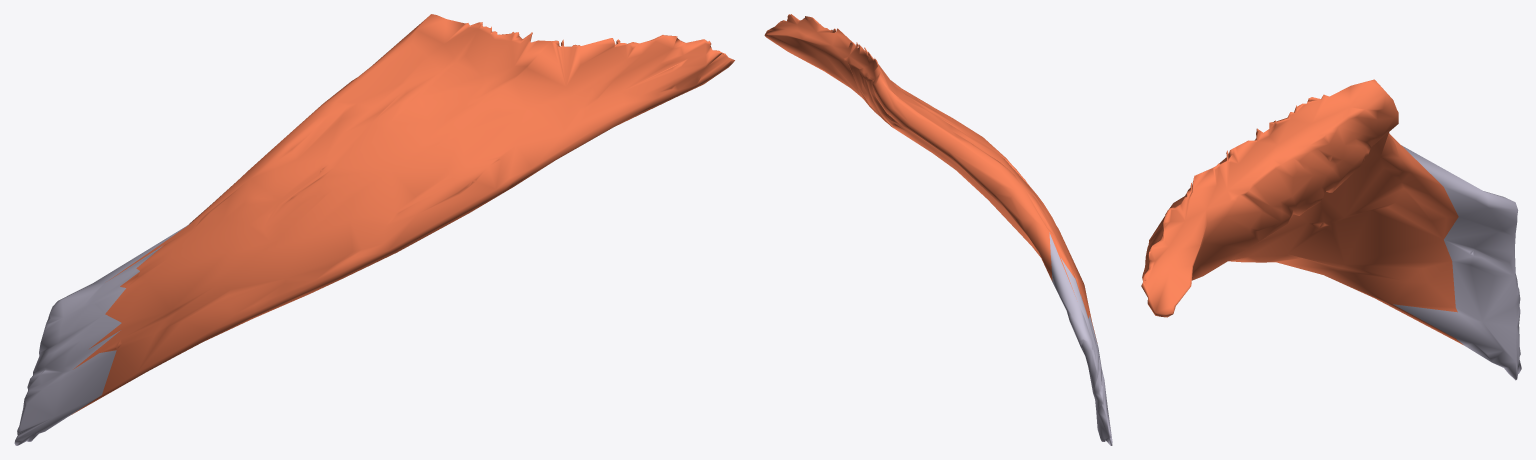
The model's file is Clavicular_head_of_pectoralis_major_muscle.r_Generated_Mesh_Fro.glb.
3 renders of one model, left to right at view 1: azimuth 30°, elevation 25°; view 2: azimuth 150°, elevation 25°; view 3: azimuth 270°, elevation 25°, orthographic. The views are drawn at different scales.
Parts seen in each view (by area): view 1: Clavicular_head_of_pectoralis_major_muscle.r_Generated_Mesh_; view 2: Clavicular_head_of_pectoralis_major_muscle.r_Generated_Mesh_; view 3: Clavicular_head_of_pectoralis_major_muscle.r_Generated_Mesh_.
Boxes of the visible parts, x1,y1,x2,y2 form: Clavicular_head_of_pectoralis_major_muscle.r_Generated_Mesh_: (14, 14, 734, 445); Clavicular_head_of_pectoralis_major_muscle.r_Generated_Mesh_: (764, 14, 1112, 445); Clavicular_head_of_pectoralis_major_muscle.r_Generated_Mesh_: (1141, 79, 1521, 380).
Size of the model in its own units: 0.1733 by 0.1056 by 0.0654.
